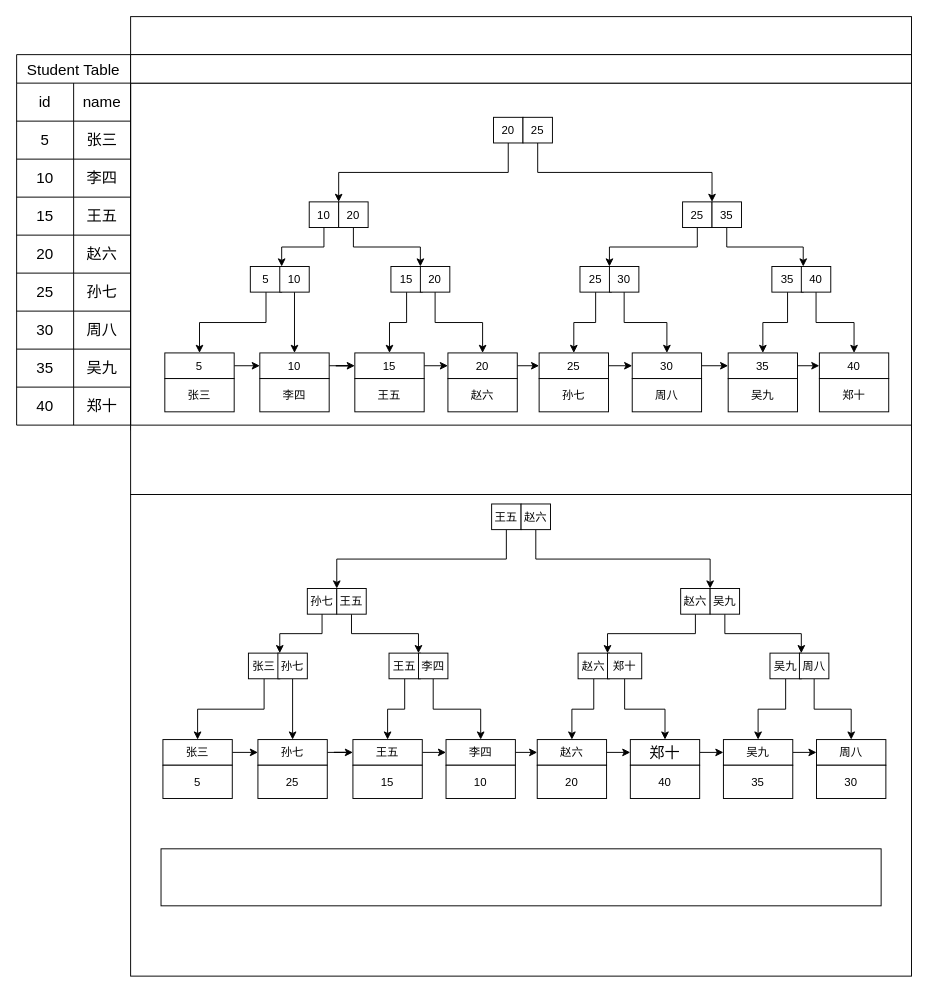
This 928x993 diagram has some shape labels left out. The centre of each missing label's shape, as x and y in pixels:
"Stuednt表，id作为主键" goes at point (521, 35).
"找到非聚簇索引后，再根据ID去聚簇索引查找（回表），最后获取行数据" goes at point (520, 877).
"聚簇索引" goes at point (521, 68).
"非聚簇索引 叶子节点存储一般索引和主键索引 排序可能根据hash值排序，不一定和主键的顺序一样" goes at point (521, 459).
